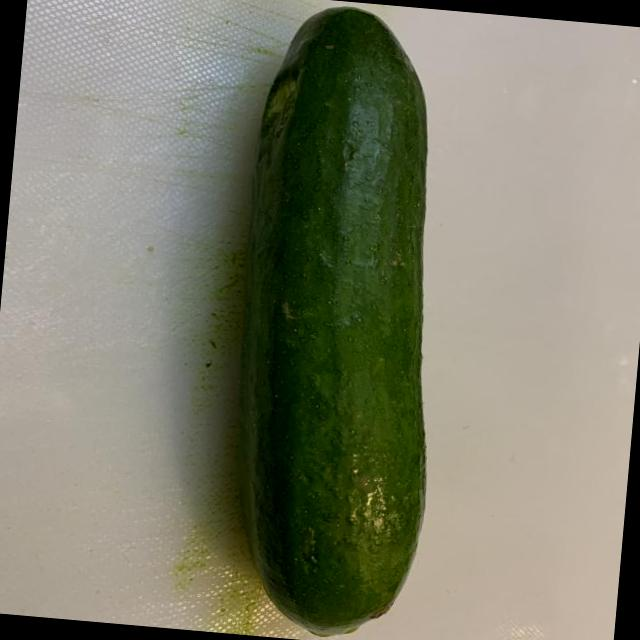Cucumber: (215, 5, 465, 640)
